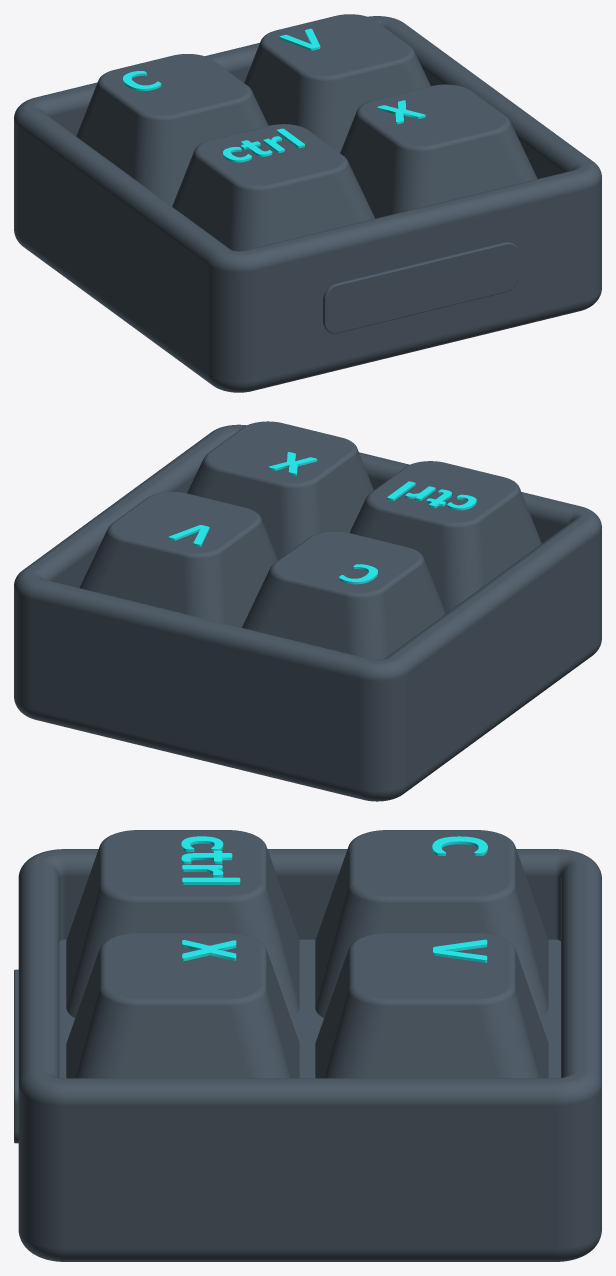
File: keyboard.glb
The picture shows the model from 3 angles, top to bottom: view 1: azimuth 30°, elevation 25°; view 2: azimuth 150°, elevation 25°; view 3: azimuth 270°, elevation 25°; orthographic projection. The views are drawn at different scales.
Visible parts, largest first — view 1: keyboard; view 2: keyboard; view 3: keyboard.
Part boxes in pixels (x1,y1,x2,y2): keyboard: [14, 14, 601, 392]; keyboard: [14, 421, 601, 801]; keyboard: [14, 830, 601, 1261].
Bounding box in the file's own units: 2 × 0.8759 × 2.02.
